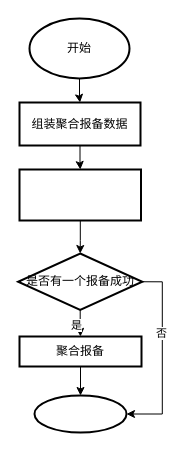
Image size: 188x450. Some labels were removed from this diagram. Each missing label, with the centre of its shape:
分别进行报备，失败互不影响: the point at 80,194
结束: the point at 80,413
